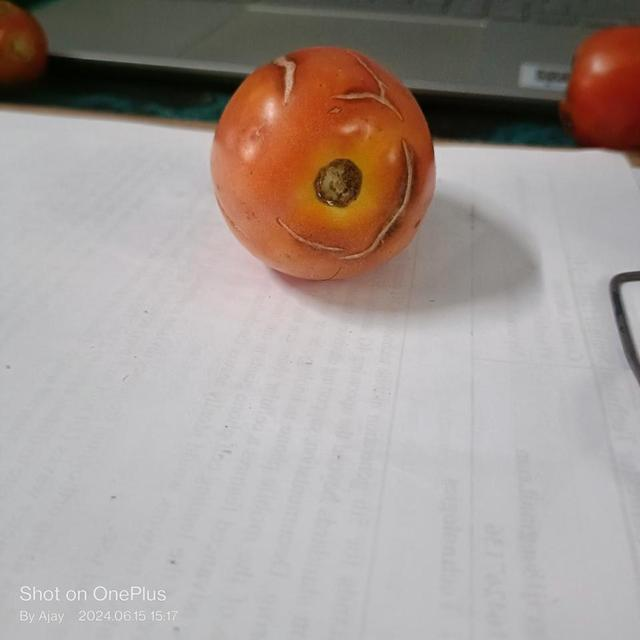Cracking Fruit: (191, 33, 283, 174)
